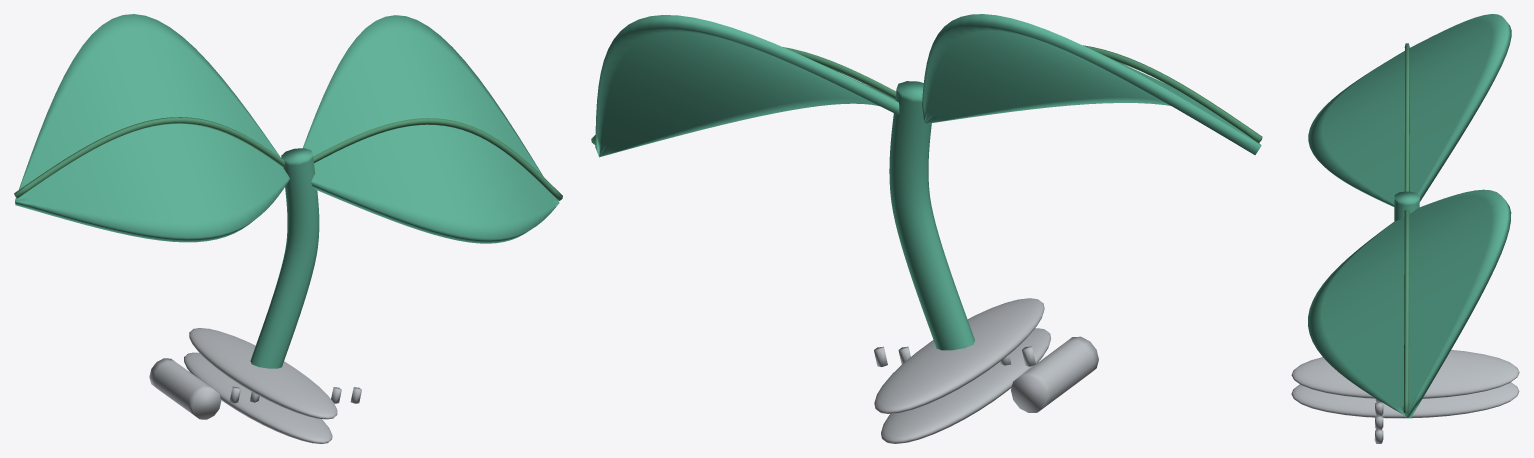
The model's file is Masculine-locs-pashmina250-sprout.glb.
The picture shows the model from 3 angles, left to right: view 1: azimuth 30°, elevation 25°; view 2: azimuth 150°, elevation 25°; view 3: azimuth 270°, elevation 25°; orthographic projection. The views are drawn at different scales.
Parts seen in each view (by area): view 1: 226 extra / Accessory / mint226, 226 extra / Sprout / clip silver235, 226 extra / Sprout / leaf vein235; view 2: 226 extra / Accessory / mint226, 226 extra / Sprout / clip silver235, 226 extra / Sprout / leaf vein235; view 3: 226 extra / Accessory / mint226, 226 extra / Sprout / clip silver235, 226 extra / Sprout / leaf vein235.
Boxes of the visible parts, x1=… form: 226 extra / Accessory / mint226: x1=15, y1=14, x2=559, y2=368; 226 extra / Sprout / clip silver235: x1=149, y1=328, x2=361, y2=443; 226 extra / Sprout / leaf vein235: x1=14, y1=117, x2=562, y2=200; 226 extra / Accessory / mint226: x1=595, y1=14, x2=1261, y2=350; 226 extra / Sprout / clip silver235: x1=874, y1=298, x2=1098, y2=443; 226 extra / Sprout / leaf vein235: x1=591, y1=45, x2=1262, y2=144; 226 extra / Accessory / mint226: x1=1308, y1=14, x2=1511, y2=418; 226 extra / Sprout / clip silver235: x1=1291, y1=350, x2=1519, y2=443; 226 extra / Sprout / leaf vein235: x1=1403, y1=43, x2=1409, y2=413.
Bounding box in the file's own units: 0.2644 × 0.1738 × 0.104.
